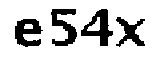4: (81, 8, 116, 51)
5: (48, 5, 81, 48)
e: (14, 18, 43, 50)
x: (116, 14, 148, 48)
